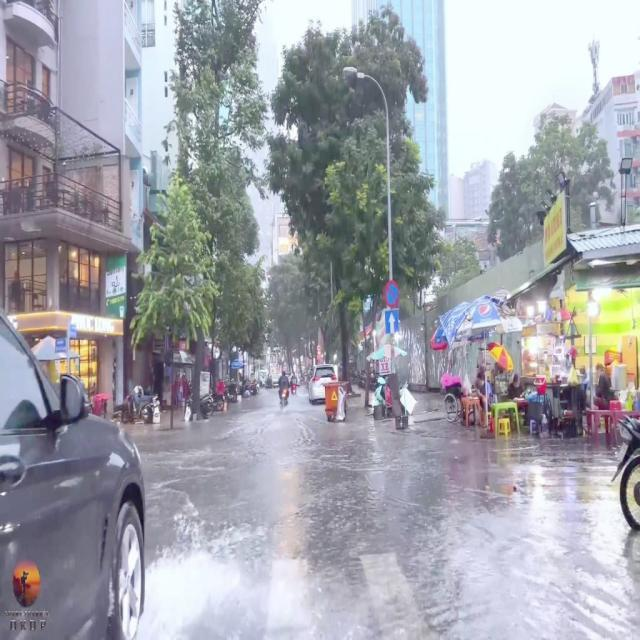131a-cam-do-xe: (384, 280, 400, 308)
407a-duong-mot-chieu: (385, 310, 399, 334)
